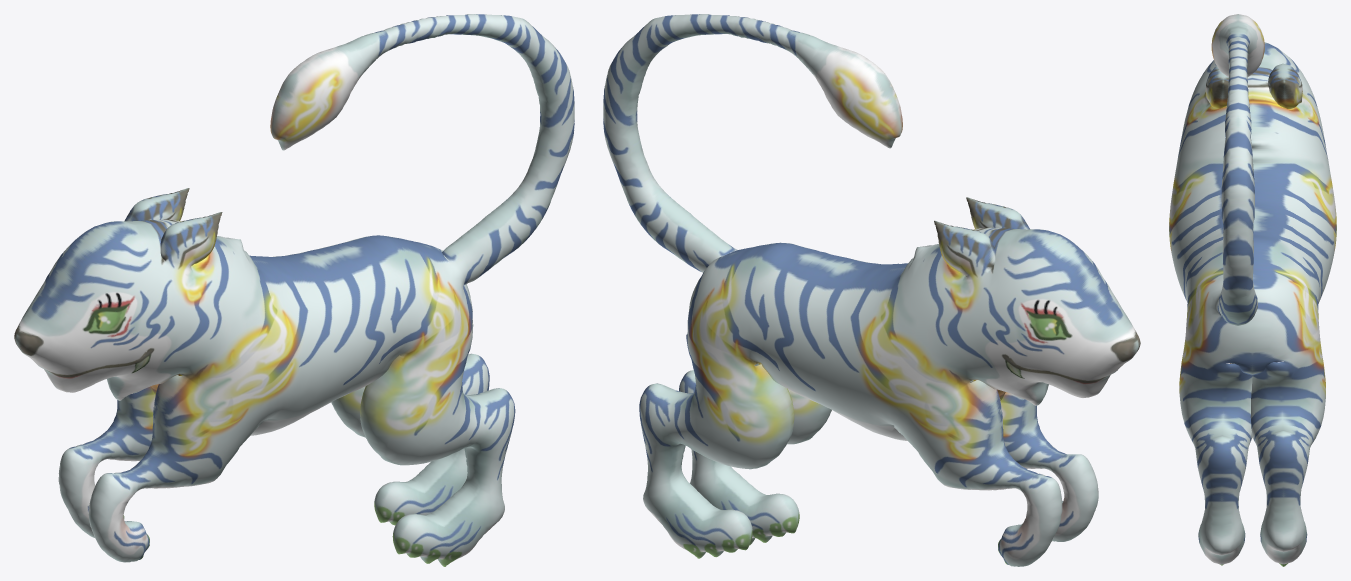
Rendered from 白虎test.glb.
The picture shows the model from 3 angles, left to right: view 1: azimuth 30°, elevation 25°; view 2: azimuth 150°, elevation 25°; view 3: azimuth 270°, elevation 25°; orthographic projection. The views are drawn at different scales.
Size of the model in its own units: 7.28 by 6.9 by 2.07.
Materials: 1 (1 with a texture image).
